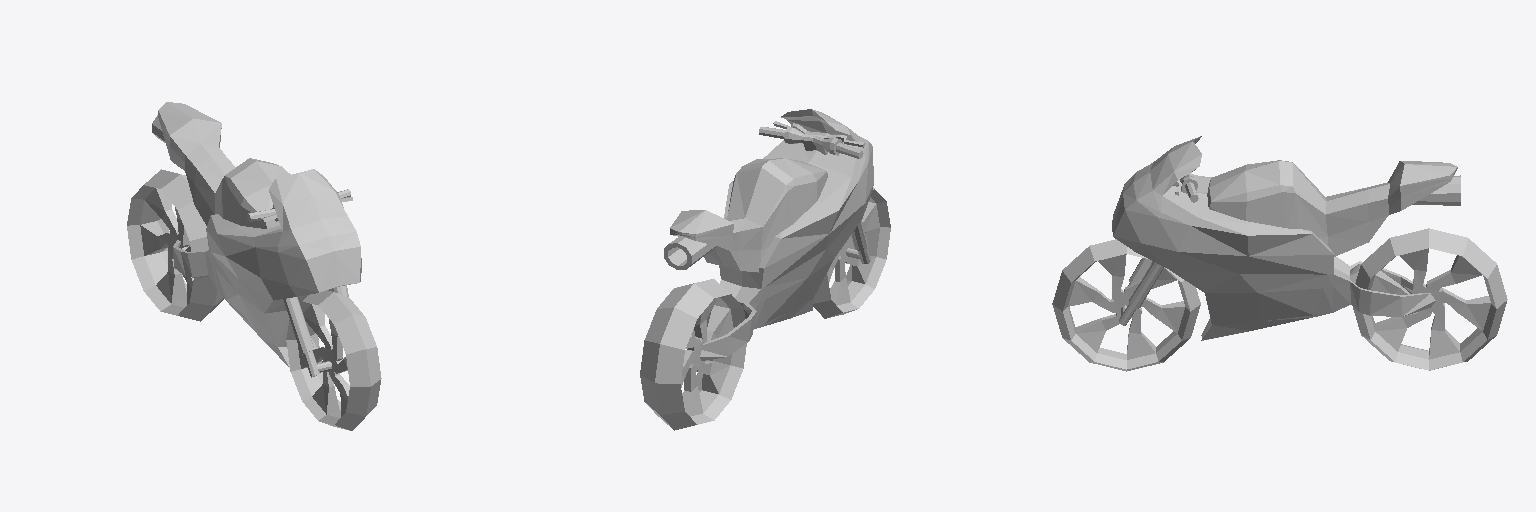
The model's file is MOTO JUEGO ANDROID.obj.
The picture shows the model from 3 angles: view 1: azimuth 30°, elevation 25°; view 2: azimuth 150°, elevation 25°; view 3: azimuth 270°, elevation 25°; orthographic projection.
Parts seen in each view (by area): view 1: cuerpo moto 003_cuerpo moto 003, rueda 008_rueda 008, rueda 006_rueda 006, cuerpo moto 004_cuerpo moto 004, cilindros para rueda_cilindros para rueda; view 2: cuerpo moto 003_cuerpo moto 003, rueda 006_rueda 006, cuerpo moto 004_cuerpo moto 004, rueda 008_rueda 008, manillar_manillar, tubo de escape_tubo de escape; view 3: cuerpo moto 003_cuerpo moto 003, cuerpo moto 004_cuerpo moto 004, rueda 006_rueda 006, rueda 008_rueda 008, cilindros para rueda_cilindros para rueda, tubo de escape_tubo de escape.
Boxes of the visible parts, x1,y1,x2,y2 form: cuerpo moto 003_cuerpo moto 003: [173, 169, 361, 367]; rueda 008_rueda 008: [286, 290, 381, 430]; rueda 006_rueda 006: [127, 169, 223, 321]; cuerpo moto 004_cuerpo moto 004: [158, 102, 290, 228]; cilindros para rueda_cilindros para rueda: [283, 285, 348, 377]; cuerpo moto 003_cuerpo moto 003: [687, 109, 873, 360]; rueda 006_rueda 006: [640, 279, 746, 430]; cuerpo moto 004_cuerpo moto 004: [670, 158, 827, 272]; rueda 008_rueda 008: [813, 187, 890, 318]; manillar_manillar: [759, 127, 863, 158]; tubo de escape_tubo de escape: [664, 236, 716, 269]; cuerpo moto 003_cuerpo moto 003: [1112, 136, 1435, 340]; cuerpo moto 004_cuerpo moto 004: [1207, 160, 1457, 256]; rueda 006_rueda 006: [1353, 228, 1507, 370]; rueda 008_rueda 008: [1052, 239, 1200, 371]; cilindros para rueda_cilindros para rueda: [1119, 258, 1163, 325]; tubo de escape_tubo de escape: [1412, 175, 1460, 205].
Size of the model in its own units: 71.86 by 144 by 258.